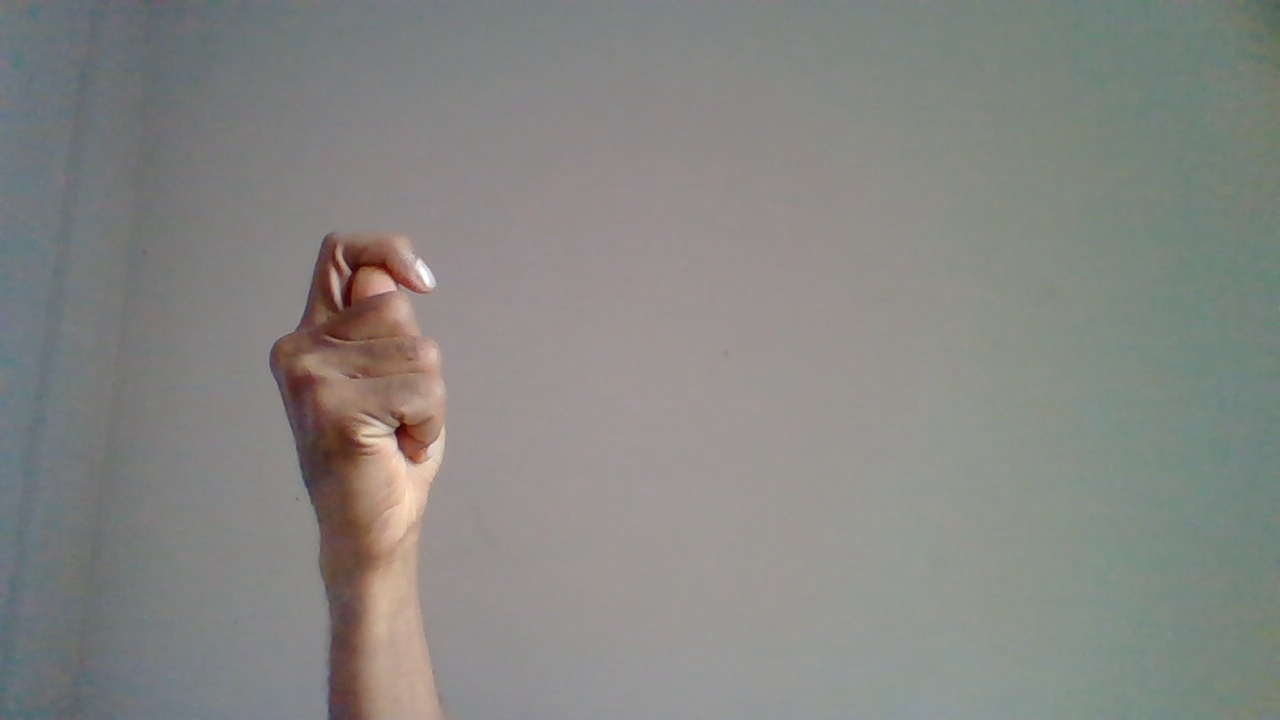che: (262, 228, 451, 691)
